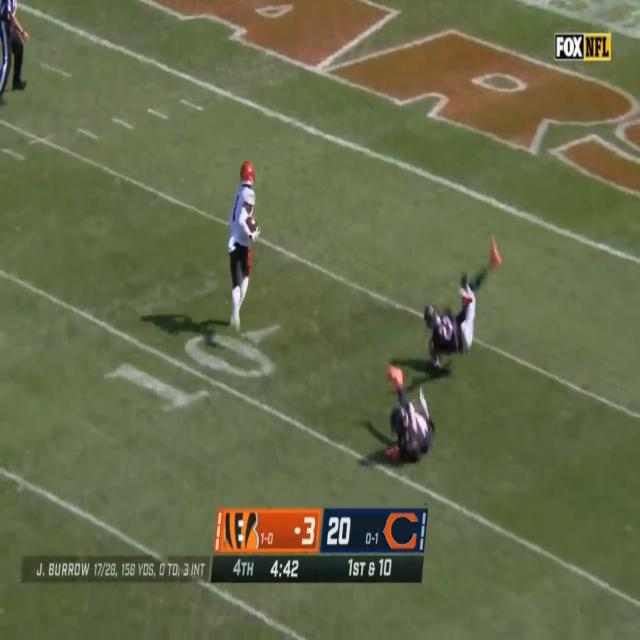Ball: (246, 214, 258, 237)
